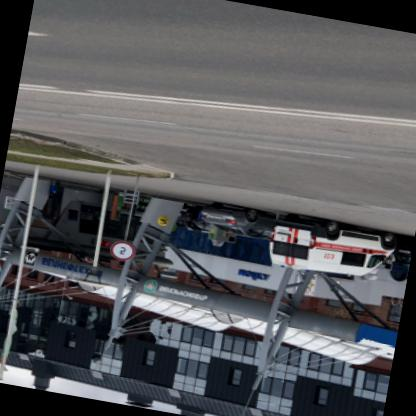speedlimit: (106, 240, 134, 263)
